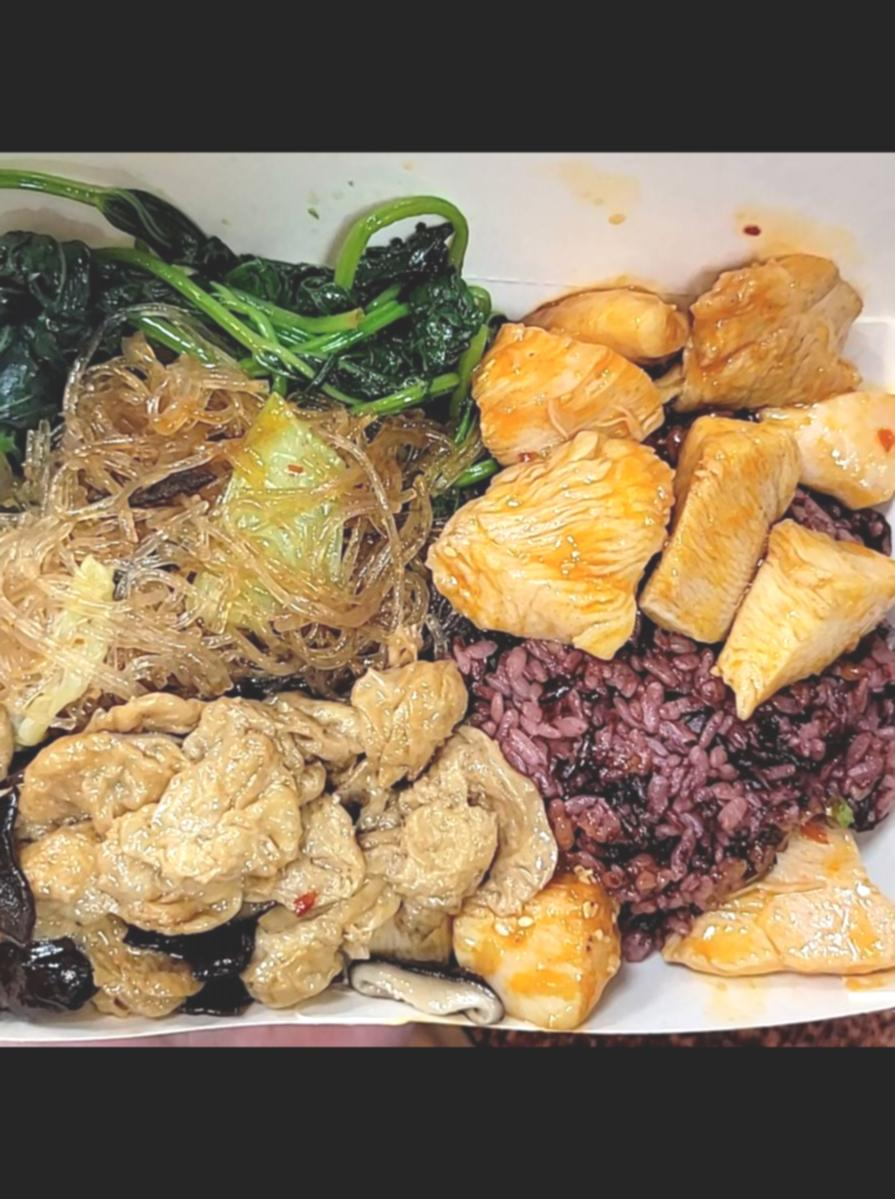box: (0, 180, 895, 1036)
purple rice: (448, 408, 895, 943)
side dish: (0, 686, 524, 1004), (0, 174, 504, 504), (0, 392, 434, 704)
spicy chicken: (431, 254, 895, 679), (468, 826, 895, 1024)
